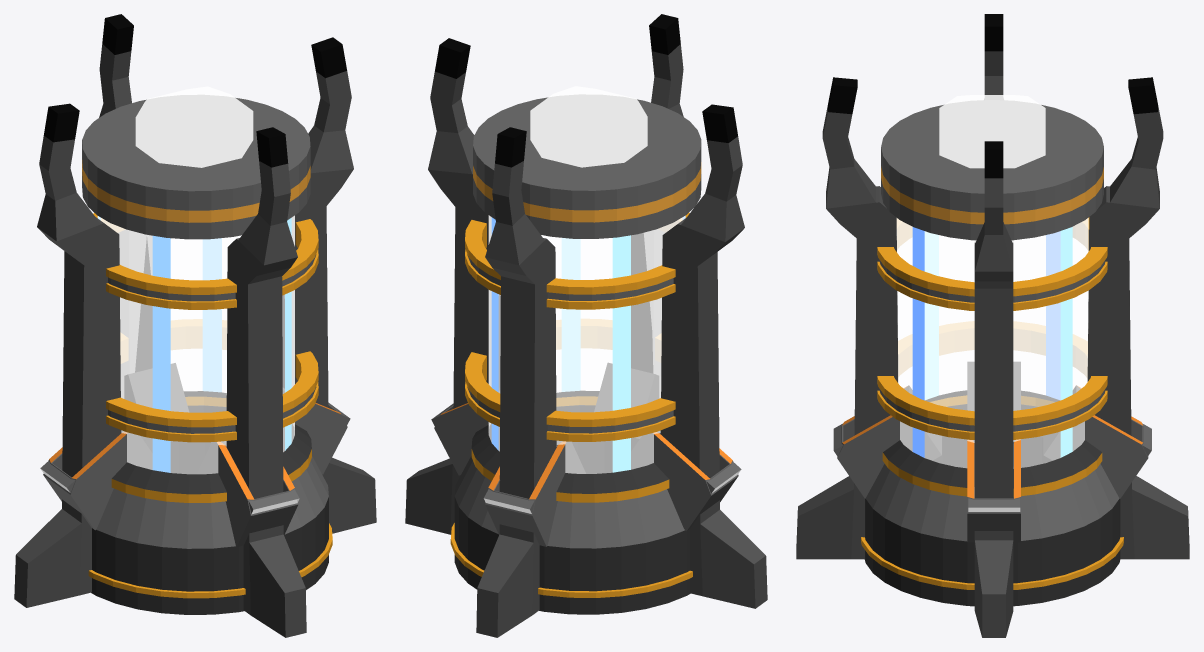
Rendered from Generator.fbx.
The picture shows the model from 3 angles, left to right: view 1: azimuth 30°, elevation 25°; view 2: azimuth 150°, elevation 25°; view 3: azimuth 270°, elevation 25°; orthographic projection. The views are drawn at different scales.
Visible parts, largest first — view 1: Cylinder, Cube.004, Cube.002, Cylinder.001, Cube.003, Cube.001, Circle.001, Cube, Circle.002, Cube.005, Cube.007, Cube.006 (+1 smaller); view 2: Cylinder, Cube.004, Cube, Cylinder.001, Cube.003, Cube.001, Circle.001, Cube.002, Circle.002, Cube.005, Cube.008, Cube.006 (+1 smaller); view 3: Cylinder, Cylinder.001, Cube, Cube.002, Cube.003, Circle.001, Circle.002, Cube.001, Cube.008, Cube.007, Cube.006, Cube.004 (+1 smaller).
Part boxes in pixels (left/top/right/bottom): Cylinder: left=82, top=95, right=332, bottom=614; Cube.004: left=14, top=103, right=121, bottom=607; Cube.002: left=226, top=127, right=306, bottom=637; Cylinder.001: left=97, top=215, right=294, bottom=474; Cube.003: left=282, top=37, right=376, bottom=533; Cube.001: left=135, top=86, right=253, bottom=167; Circle.001: left=106, top=319, right=318, bottom=442; Cube: left=99, top=14, right=152, bottom=452; Circle.002: left=93, top=213, right=318, bottom=309; Cube.005: left=40, top=430, right=152, bottom=530; Cube.007: left=197, top=441, right=299, bottom=546; Cube.006: left=283, top=388, right=350, bottom=474; Cylinder: left=450, top=95, right=701, bottom=614; Cube.004: left=660, top=104, right=767, bottom=608; Cube: left=476, top=127, right=556, bottom=637; Cylinder.001: left=488, top=215, right=685, bottom=473; Cube.003: left=405, top=38, right=500, bottom=534; Cube.001: left=530, top=86, right=647, bottom=167; Circle.001: left=465, top=319, right=675, bottom=441; Cube.002: left=631, top=14, right=683, bottom=450; Circle.002: left=465, top=212, right=689, bottom=309; Cube.005: left=631, top=431, right=741, bottom=530; Cube.008: left=483, top=441, right=585, bottom=546; Cube.006: left=431, top=388, right=499, bottom=475; Cylinder: left=861, top=100, right=1123, bottom=606; Cylinder.001: left=896, top=218, right=1088, bottom=468; Cube: left=1087, top=77, right=1189, bottom=559; Cube.002: left=796, top=77, right=897, bottom=559; Cube.003: left=974, top=141, right=1013, bottom=637; Circle.001: left=877, top=321, right=1107, bottom=439; Circle.002: left=877, top=217, right=1107, bottom=310; Cube.001: left=939, top=95, right=1045, bottom=168; Cube.008: left=1043, top=385, right=1151, bottom=498; Cube.007: left=833, top=385, right=941, bottom=498; Cube.006: left=967, top=439, right=1020, bottom=542; Cube.004: left=975, top=14, right=1012, bottom=241.
Size of the model in its own units: 204 by 205 by 271.
